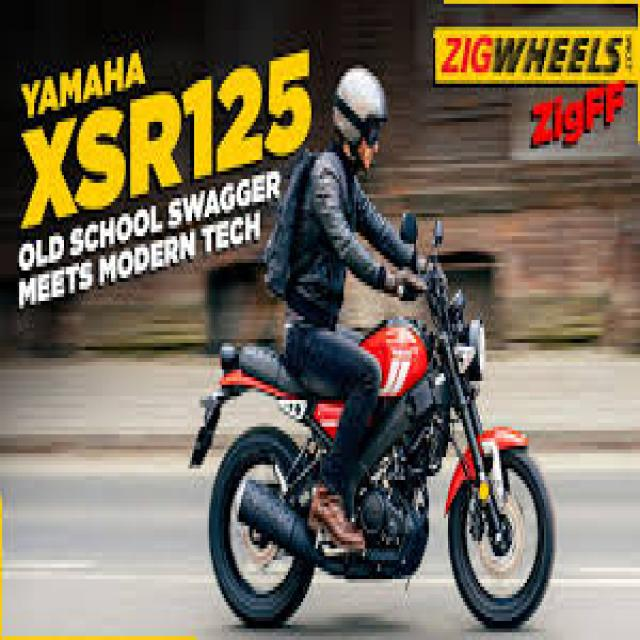bike: (190, 212, 554, 630)
